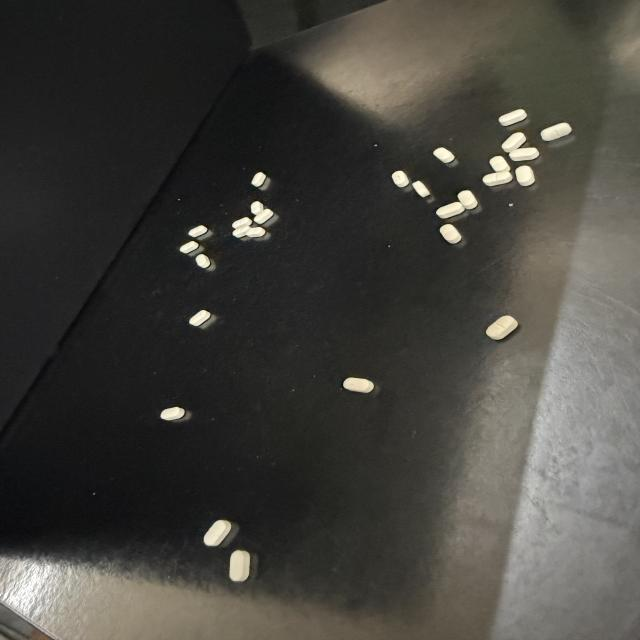pill: (486, 316, 518, 340), (203, 520, 232, 546), (229, 550, 250, 581), (541, 123, 572, 141), (502, 132, 526, 153), (343, 378, 374, 393), (499, 109, 526, 126), (436, 202, 464, 218), (483, 171, 512, 186), (515, 166, 535, 186), (440, 224, 461, 243), (510, 148, 539, 161), (458, 190, 477, 209), (189, 310, 211, 326), (434, 147, 455, 163), (489, 156, 510, 172), (160, 407, 185, 420), (254, 209, 273, 224), (392, 171, 409, 187), (413, 181, 430, 197), (188, 225, 208, 237), (232, 216, 252, 228), (180, 241, 199, 253), (252, 172, 266, 187), (233, 225, 249, 238), (196, 254, 210, 268), (247, 227, 265, 237), (251, 201, 264, 214)
